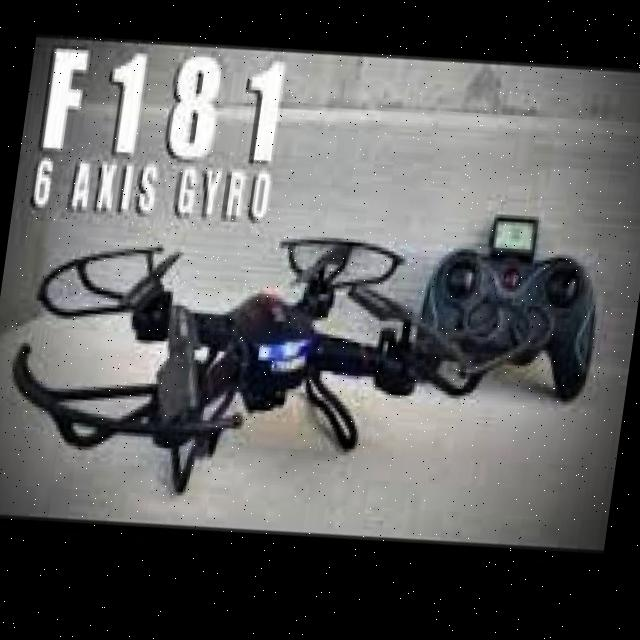drone: (0, 183, 492, 534)
